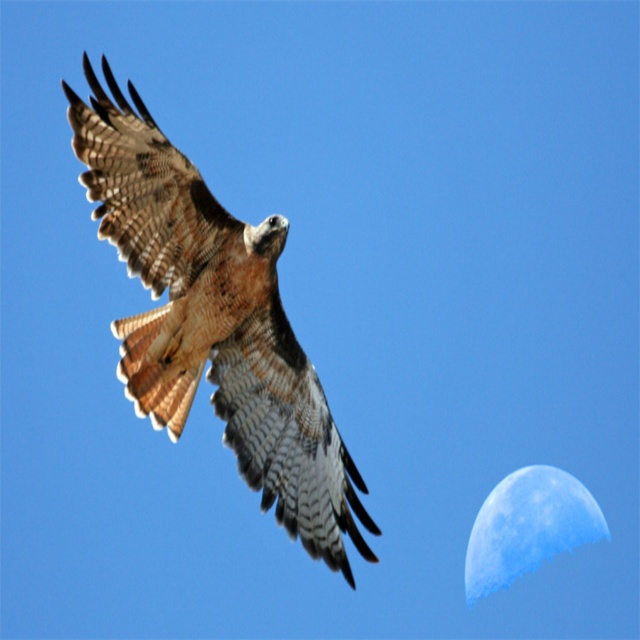Eagle: (58, 49, 388, 596)
